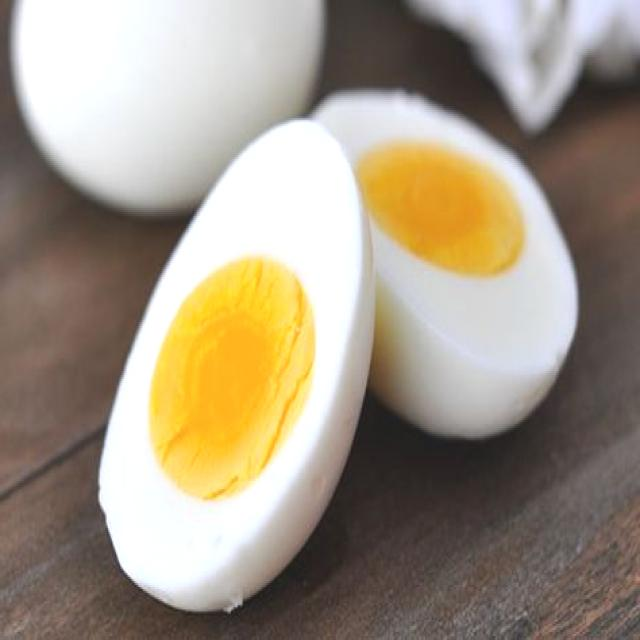telur rebus: (96, 118, 375, 616)
